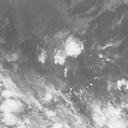cyclone: (38, 35, 82, 66)
